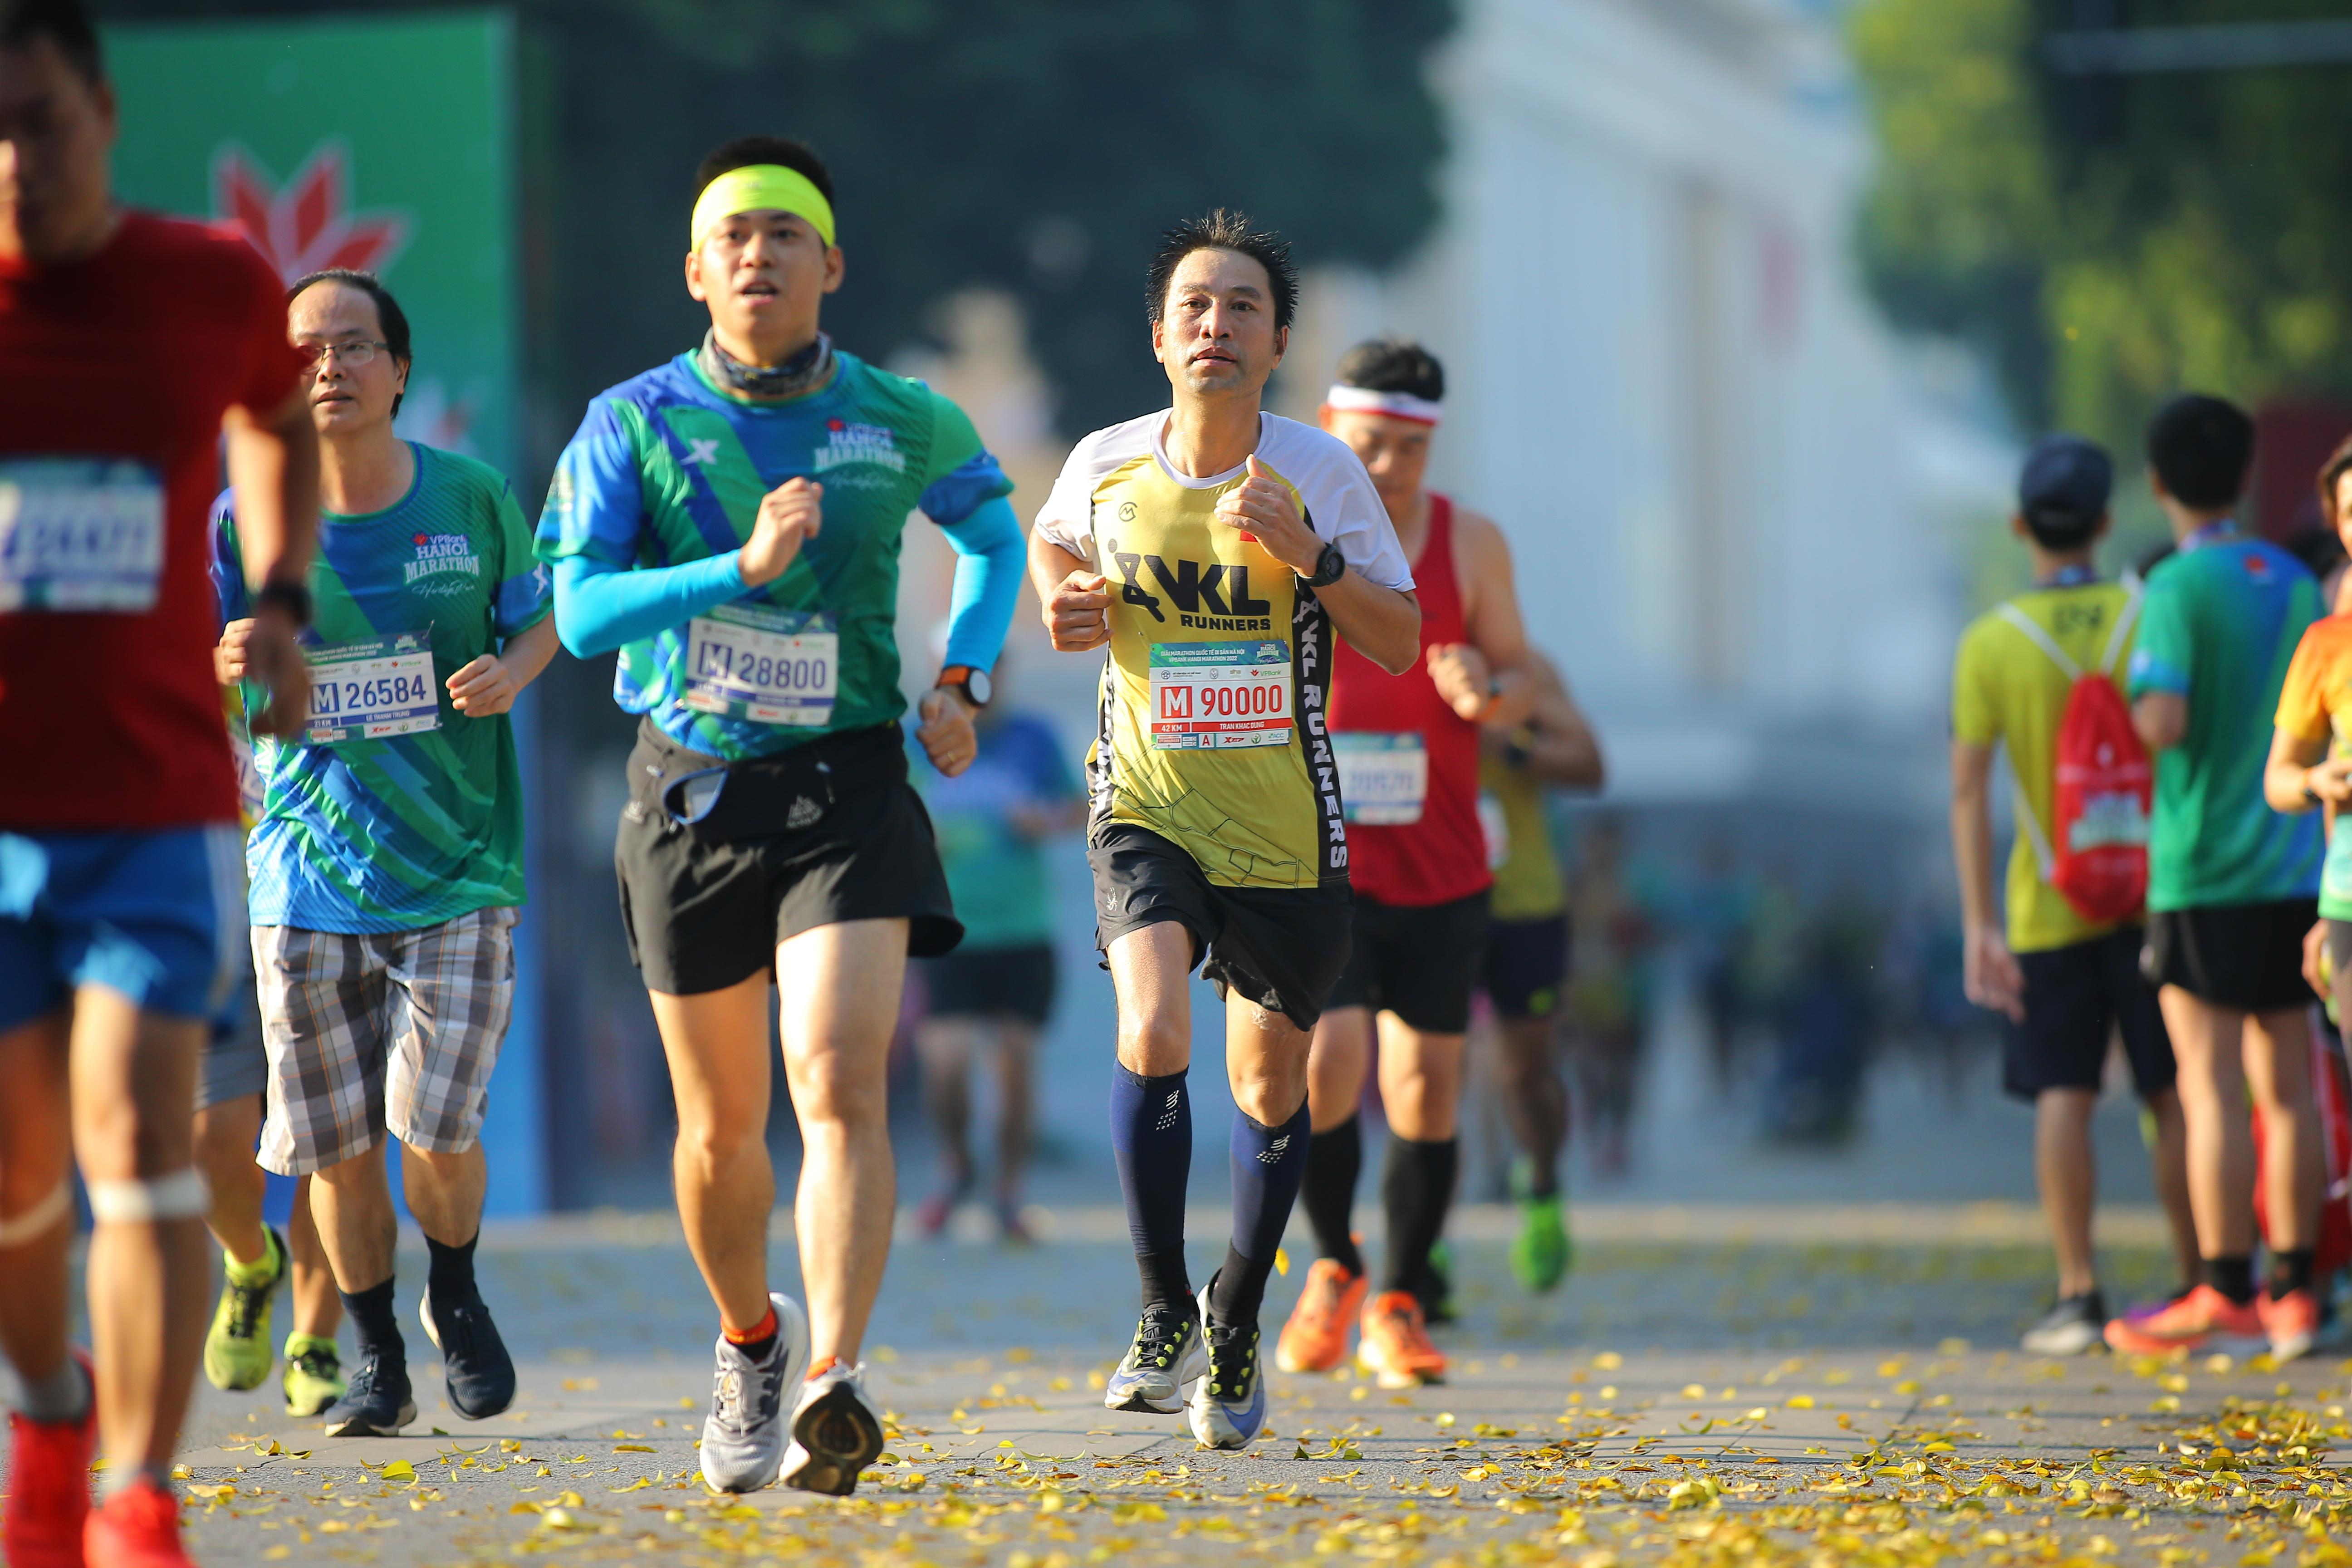bib: (0, 460, 158, 620), (689, 606, 835, 731), (292, 642, 441, 742), (1151, 644, 1288, 749), (1325, 740, 1424, 822)
